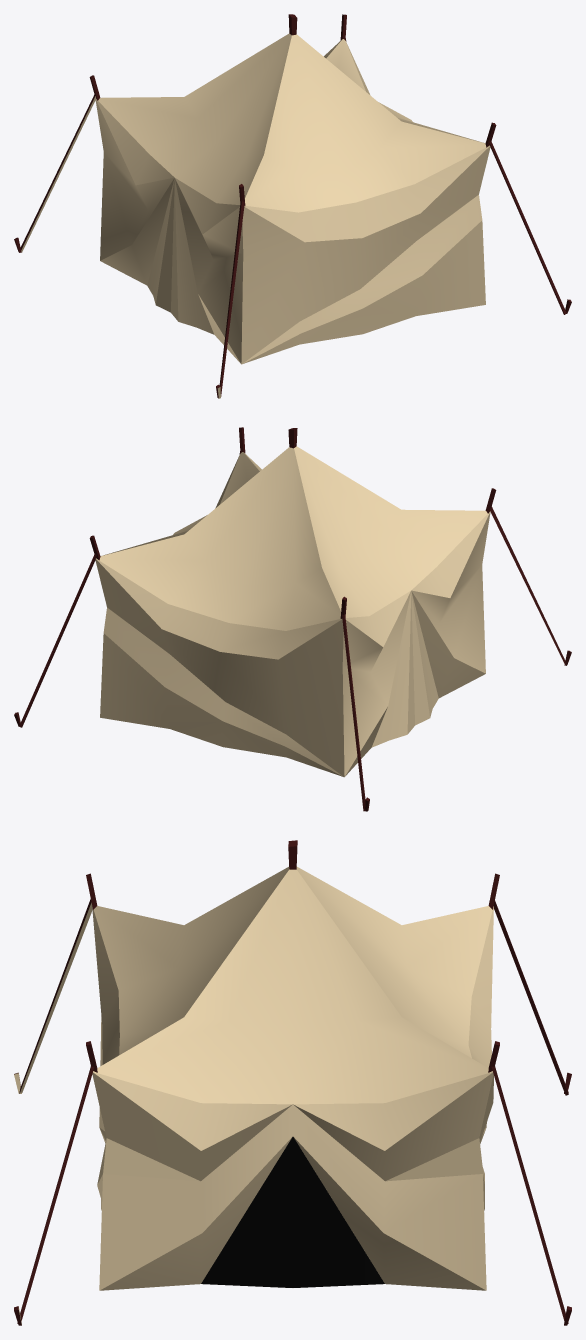
The model's file is Tent.fbx.
3 renders of one model, top to bottom at view 1: azimuth 30°, elevation 25°; view 2: azimuth 150°, elevation 25°; view 3: azimuth 270°, elevation 25°, orthographic. The views are drawn at different scales.
Visible parts, largest first — view 1: tent; view 2: tent; view 3: tent.
Part boxes in pixels (x1,y1,x2,y2): tent: (14,14,571,398); tent: (14,427,571,811); tent: (14,840,571,1325).
Bounding box in the file's own units: 490 × 355 × 488.
